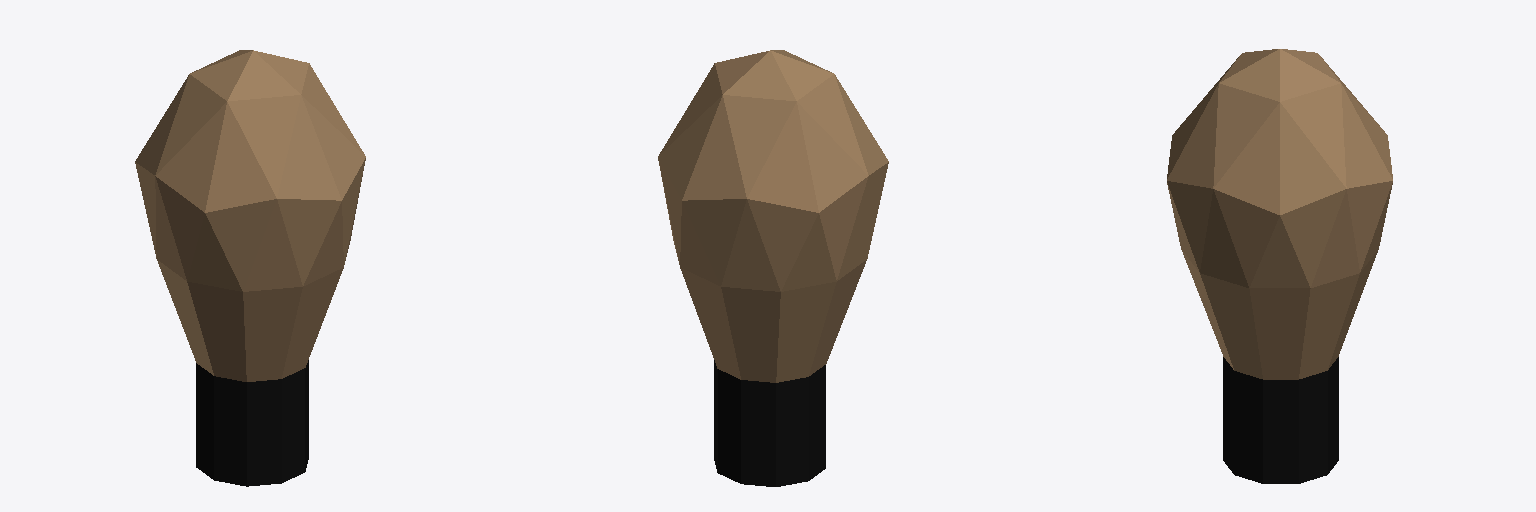
3 views of the same model, side by side, from view 1: azimuth 30°, elevation 25°; view 2: azimuth 150°, elevation 25°; view 3: azimuth 270°, elevation 25° (orthographic).
Visible parts, largest first — view 1: Icosphere; view 2: Icosphere; view 3: Icosphere.
Part boxes in pixels (x1,y1,x2,y2): Icosphere: (135, 50, 365, 486); Icosphere: (658, 50, 888, 486); Icosphere: (1167, 49, 1392, 483).
Bounding box in the file's own units: 1.9 × 3.72 × 1.85.